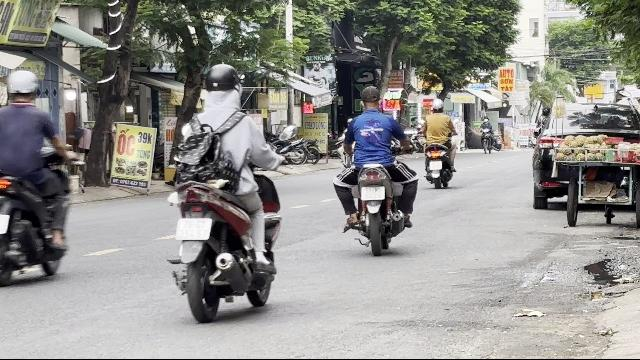helmet: (200, 62, 240, 108), (4, 70, 40, 102)
licenseplate: (176, 218, 212, 240), (362, 187, 384, 201)
motorcyclist: (162, 62, 286, 322), (0, 66, 74, 286), (332, 84, 418, 252)
nohelmet: (360, 86, 382, 110)
